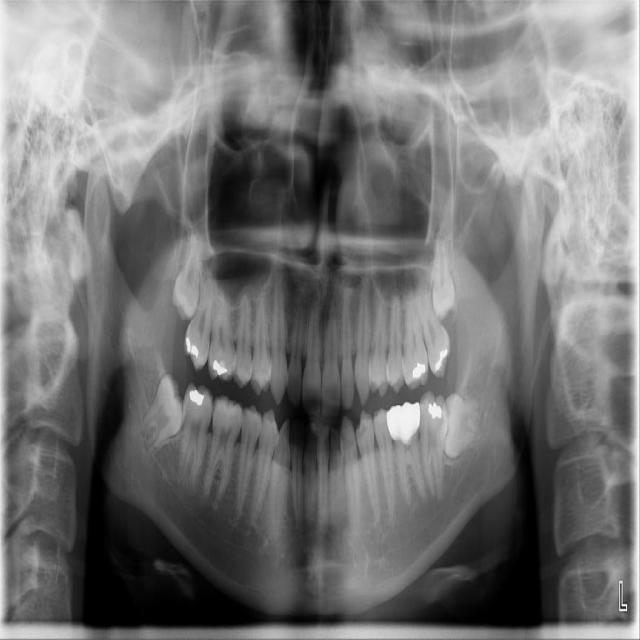Filling: (386, 402, 420, 443), (185, 333, 202, 362), (431, 348, 449, 375), (425, 396, 444, 419), (208, 358, 228, 378), (188, 387, 206, 407), (410, 363, 427, 381)
impacted tooth: (139, 372, 184, 453), (168, 230, 201, 315), (445, 393, 487, 456), (432, 221, 457, 315)
